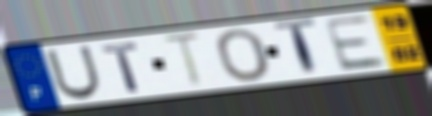E: (320, 13, 390, 73)
O: (213, 27, 275, 83)
T: (271, 16, 322, 79), (159, 30, 205, 91), (99, 40, 144, 94)
U: (43, 44, 104, 102)
